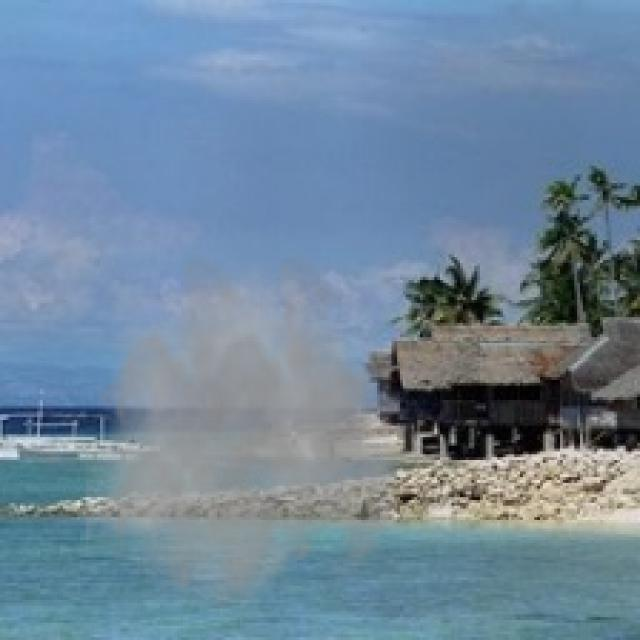smoke: (86, 249, 428, 620)
